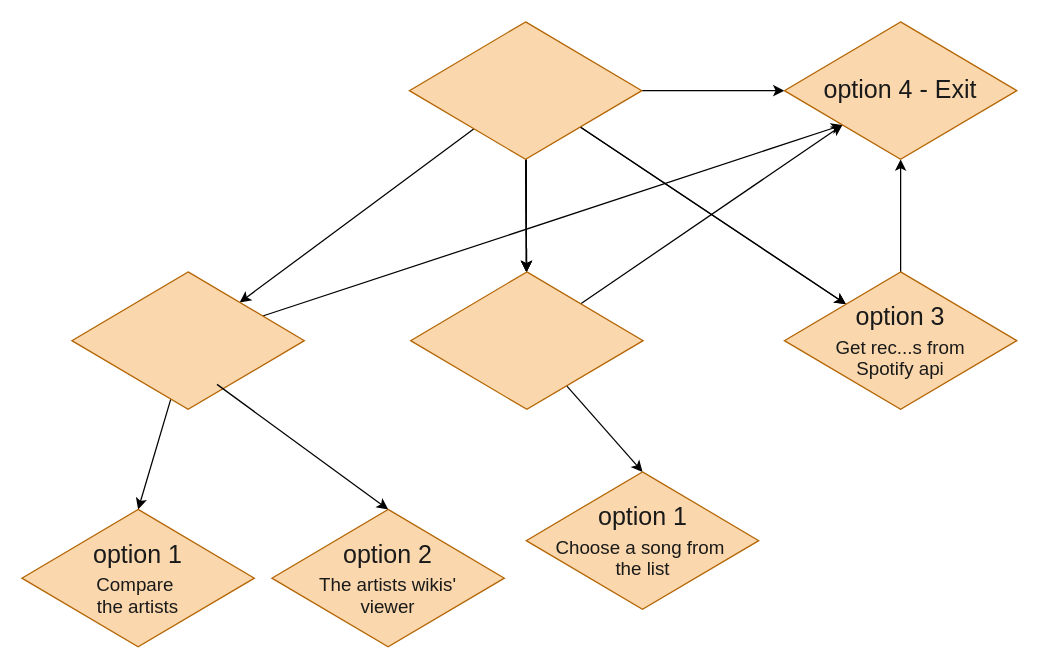
Image size: 1039x669. Some labels were removed from this diagram. The shapes that lost their labels are listed below. From the top down, each one's box as (x1, y1, x2, y2) in pixels, then its label:
(408, 21, 642, 159): main_menu 4 options
(71, 271, 304, 409): option 1 Choose 2 artists from the list
(409, 271, 643, 409): option 2 Choose a song from the list
